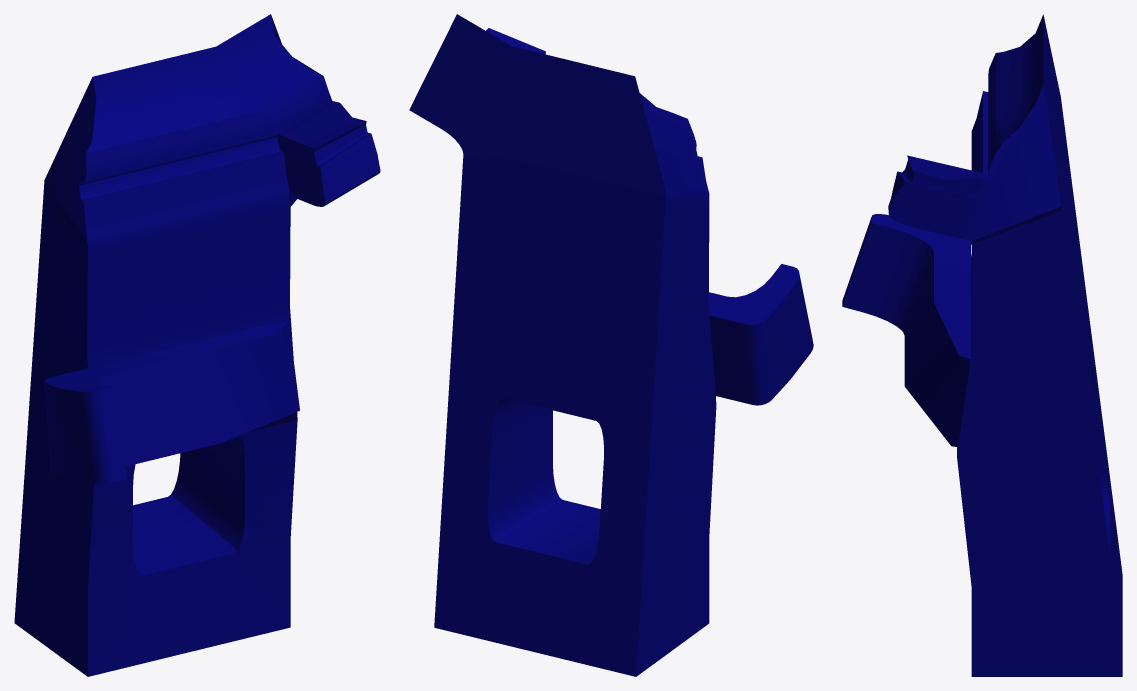
Rendered from Support 1.fbx.
3 renders of one model, left to right at view 1: azimuth 30°, elevation 25°; view 2: azimuth 150°, elevation 25°; view 3: azimuth 270°, elevation 25°, orthographic. The views are drawn at different scales.
Parts seen in each view (by area): view 1: Support; view 2: Support; view 3: Support.
Boxes of the visible parts, bbox=[...] form: Support: bbox=[14, 14, 380, 676]; Support: bbox=[409, 14, 813, 676]; Support: bbox=[842, 14, 1122, 676].
Size of what is drawn, in the model's own units: 8.68 by 15.8 by 6.68.
